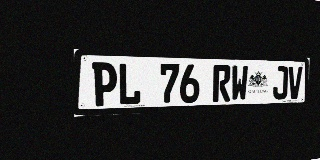6: (180, 64, 200, 103)
7: (158, 64, 180, 104)
J: (273, 66, 288, 100)
L: (118, 63, 141, 106)
P: (92, 62, 117, 107)
R: (213, 65, 231, 102)
V: (288, 66, 302, 99)
W: (231, 65, 248, 101)
